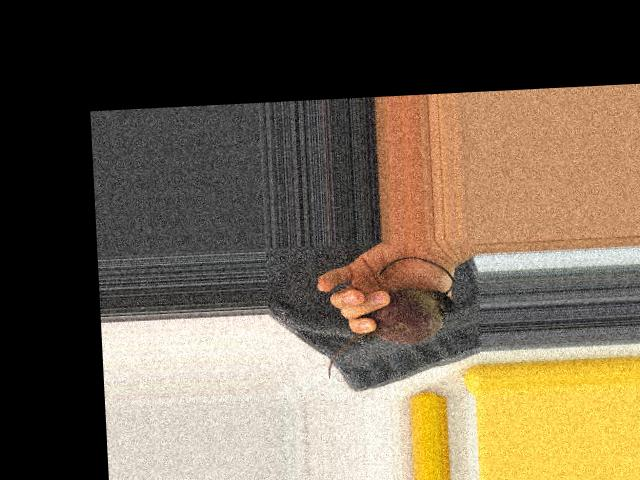beet: (322, 254, 457, 378)
